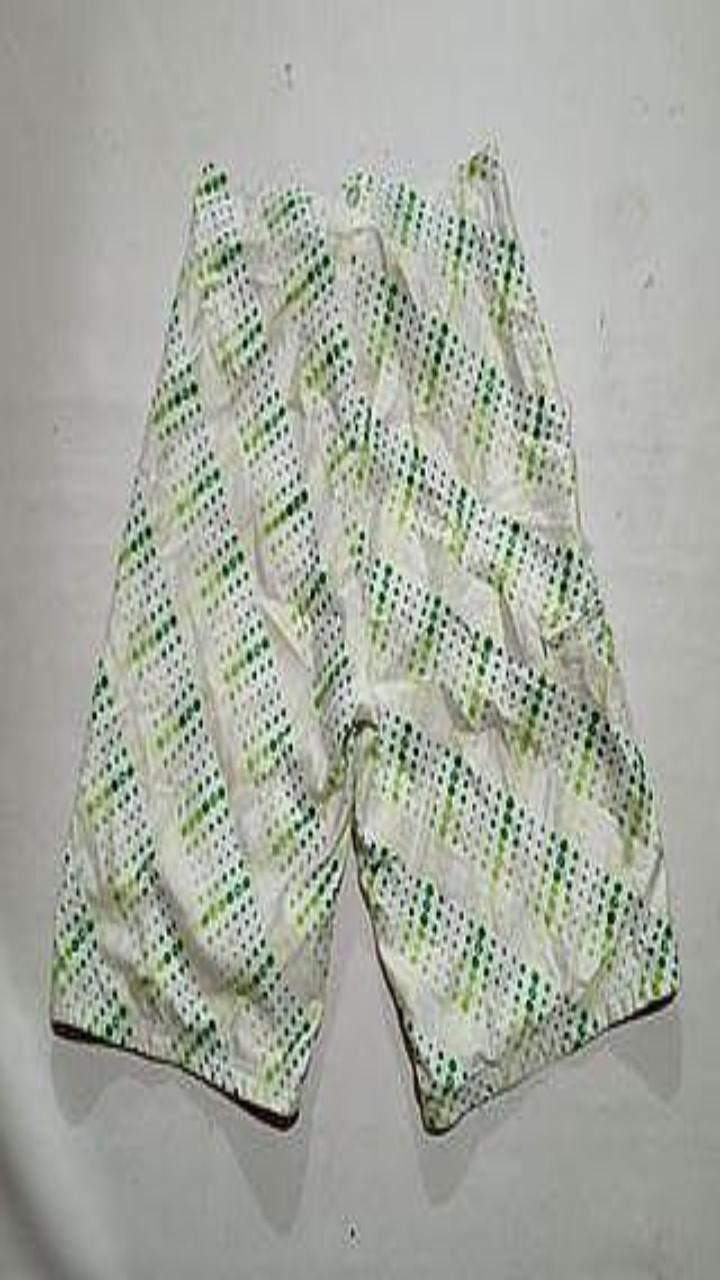Shorts: (50, 135, 679, 1131)
